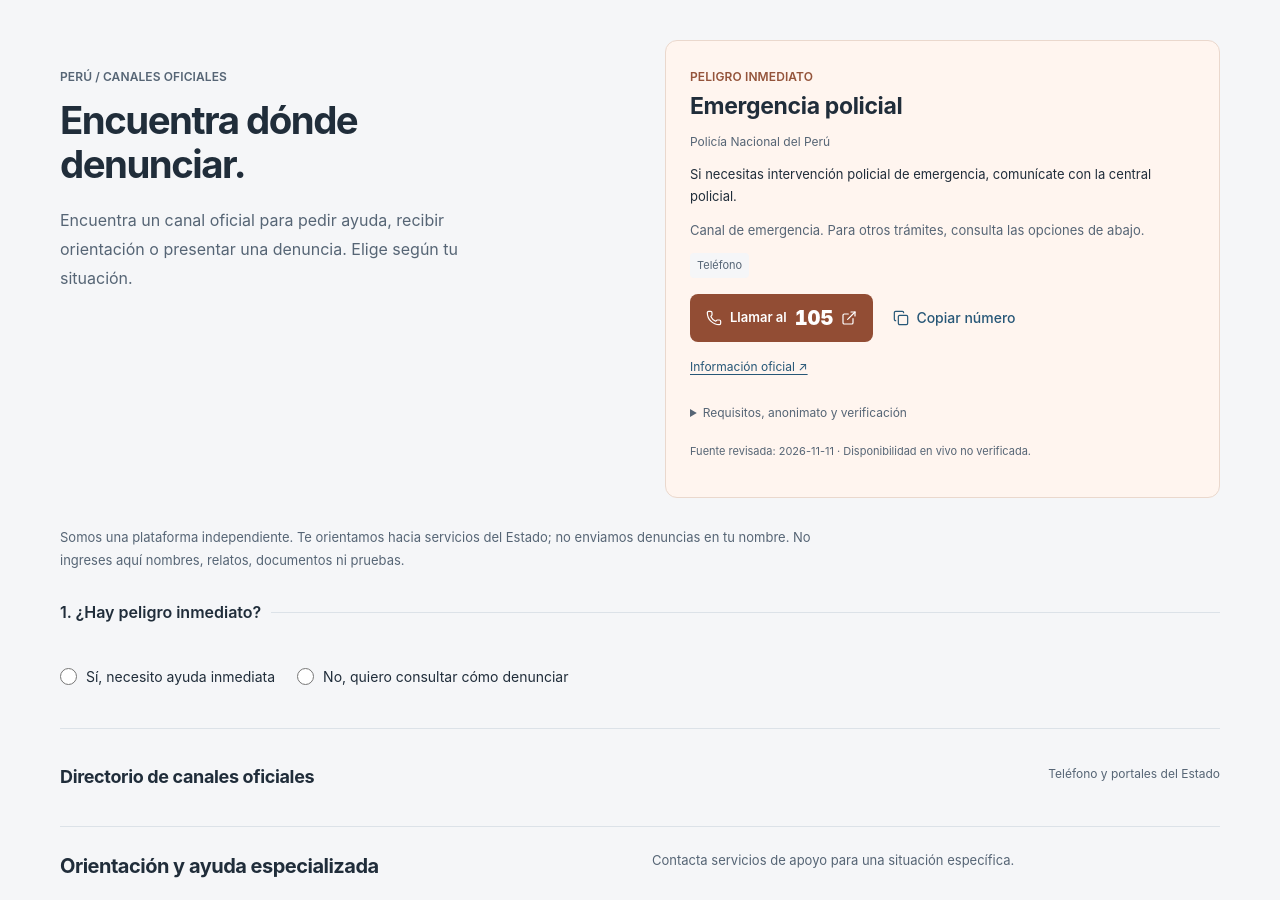
Scenario: official reporting resources › recommends only configured channels for Robo o hurto and keeps emergency assistance available
Click the radio button labelled "No, quiero consultar cómo denunciar".
click(306, 676)  # box 297,668 -> 314,685
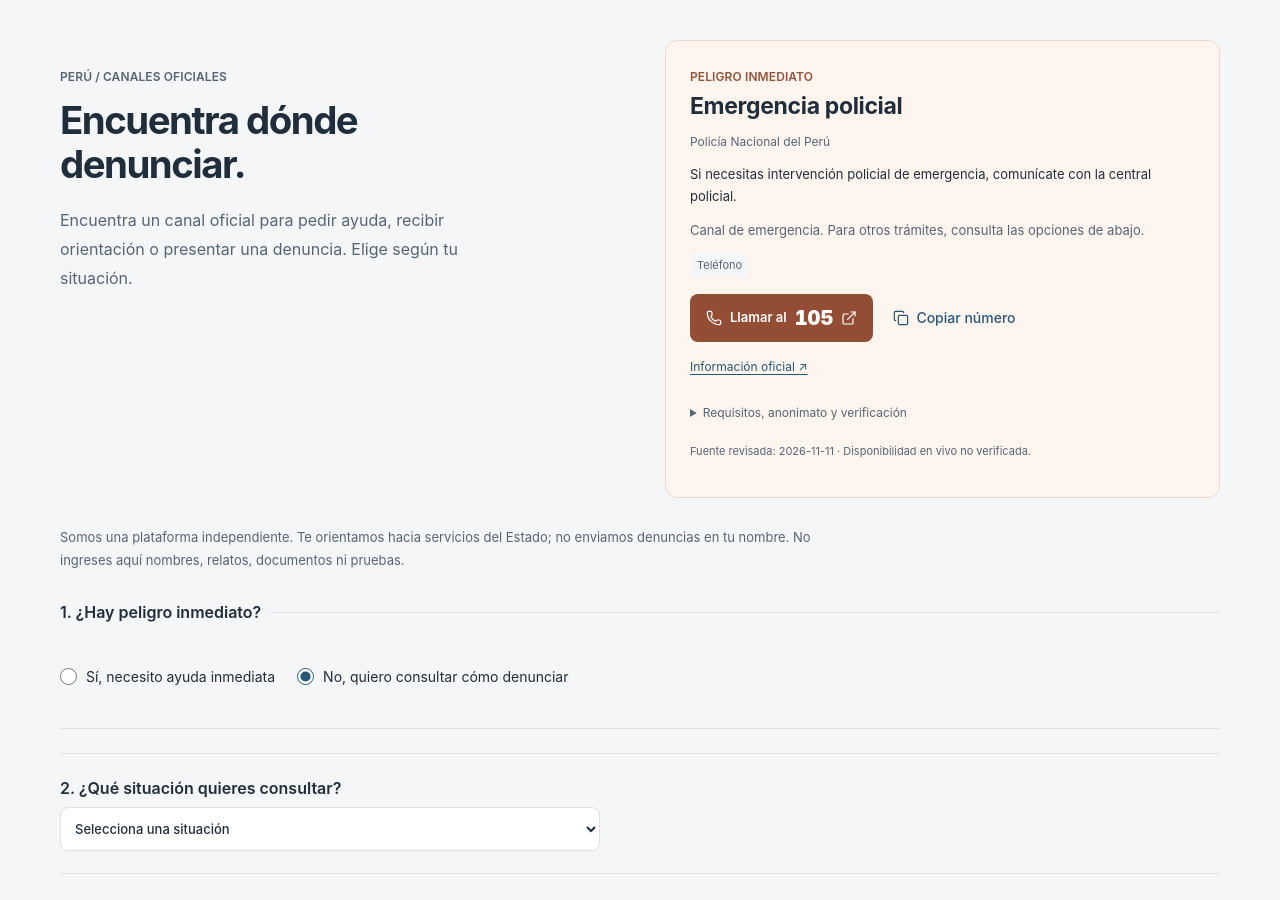
Select "Robo o hurto" in the dropdown labelled "2. ¿Qué situación quieres consultar?" at (330, 829), box 60,807 -> 600,851
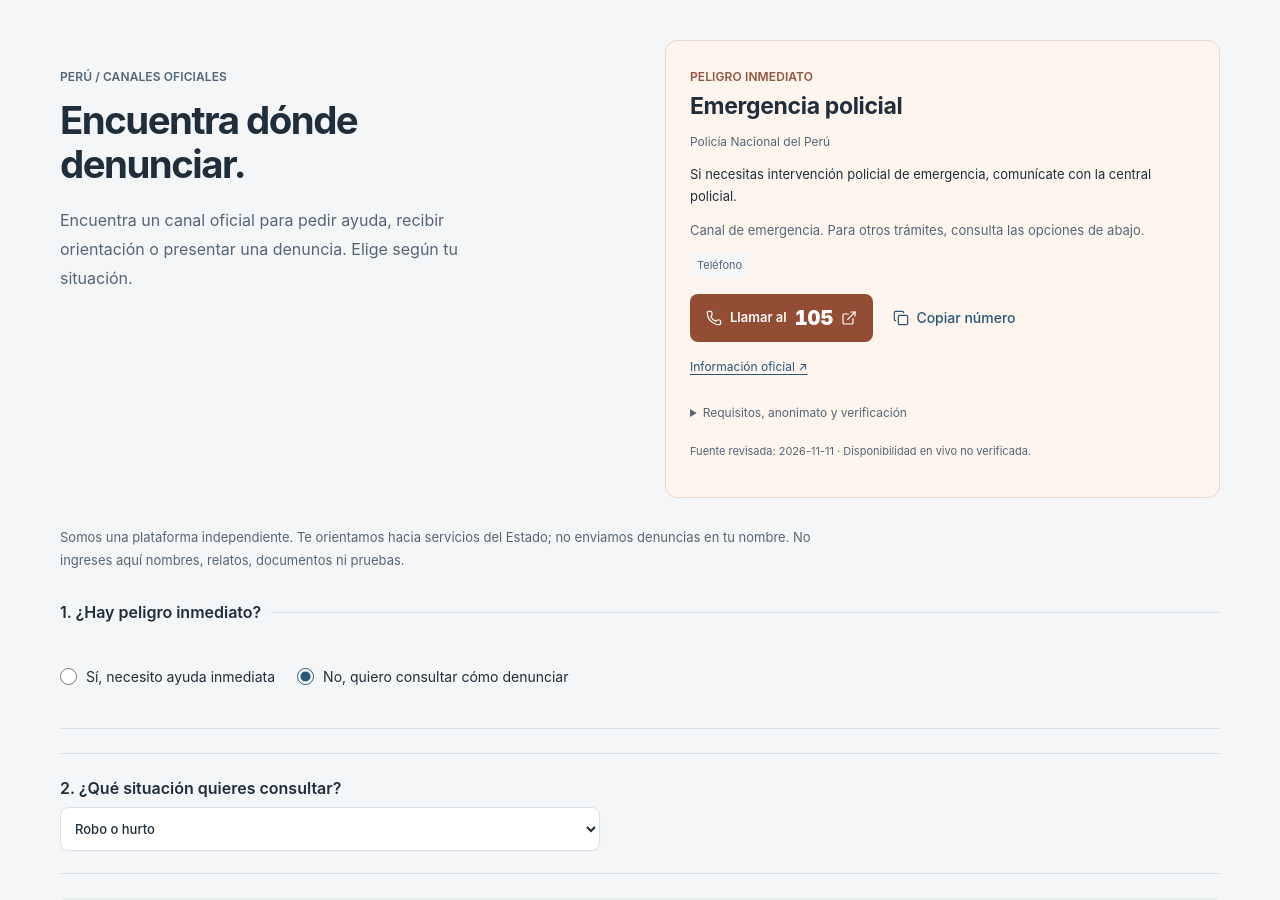
Expected: the link "Llamar al 105" is shown, 690,294 -> 873,342
Click the radio button labelled "Sí, necesito ayuda inmediata".
click(68, 676)  # box 60,668 -> 77,685
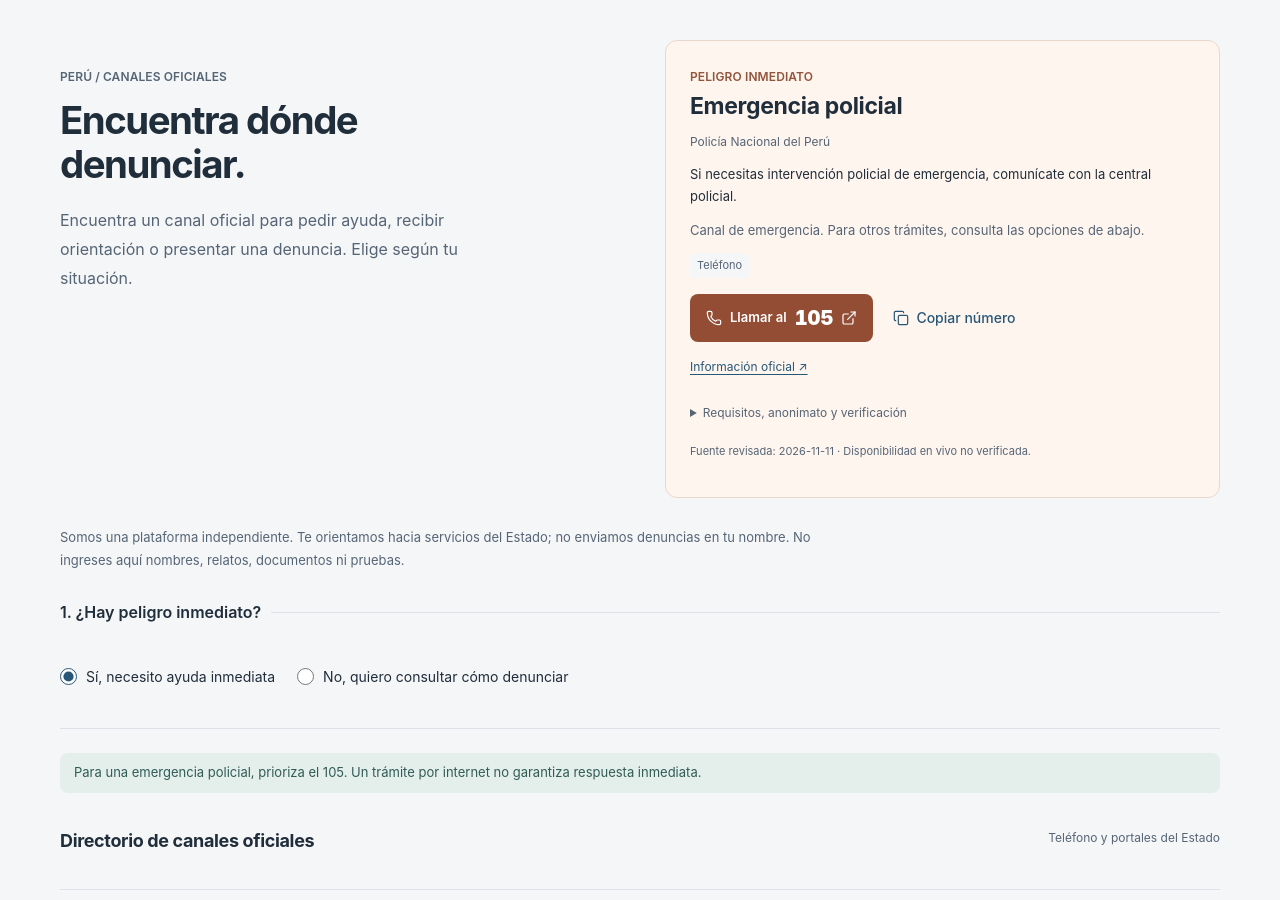
Now the label labelled "2. ¿Qué situación quieres consultar?" is gone
